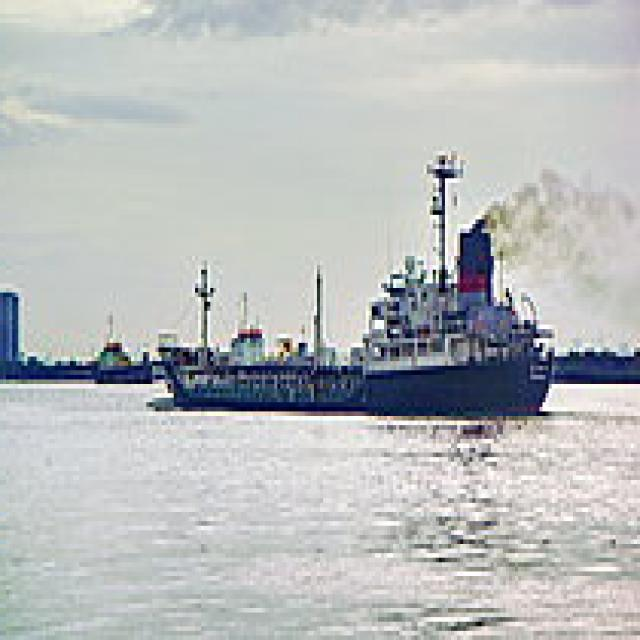Tanker: (152, 133, 561, 416)
